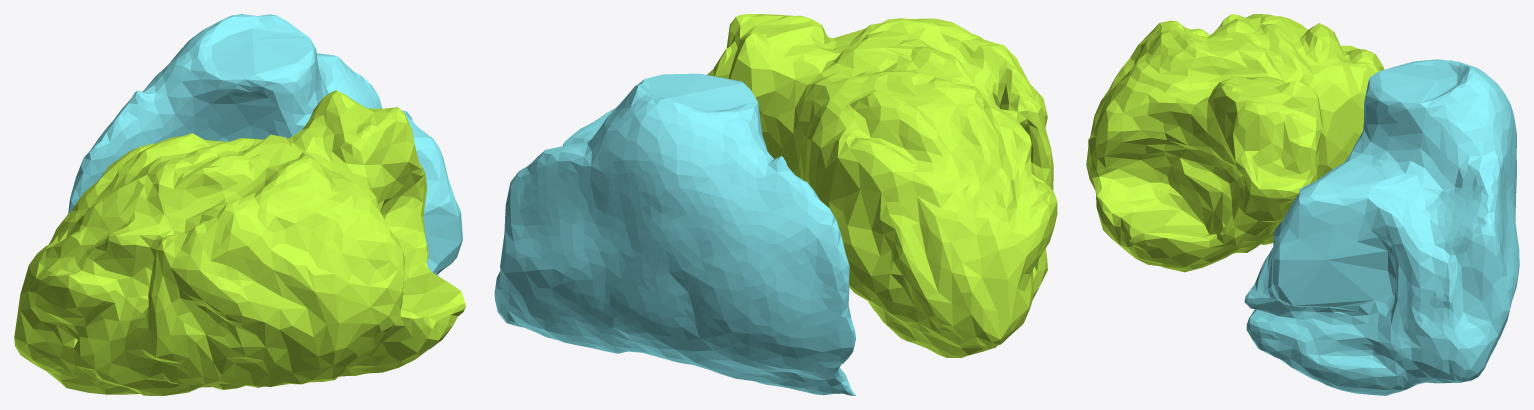
Rendered from ventricles.glb.
3 renders of one model, left to right at view 1: azimuth 30°, elevation 25°; view 2: azimuth 150°, elevation 25°; view 3: azimuth 270°, elevation 25°, orthographic. The views are drawn at different scales.
Parts seen in each view (by area): view 1: LEFT VENTRICLE, RIGHT VENTRICLE; view 2: RIGHT VENTRICLE, LEFT VENTRICLE; view 3: RIGHT VENTRICLE, LEFT VENTRICLE.
Part boxes in pixels (<box>): LEFT VENTRICLE: <box>14,90,465,395</box>; RIGHT VENTRICLE: <box>68,14,462,348</box>; RIGHT VENTRICLE: <box>494,73,855,395</box>; LEFT VENTRICLE: <box>707,14,1057,357</box>; RIGHT VENTRICLE: <box>1244,59,1519,395</box>; LEFT VENTRICLE: <box>1086,14,1384,272</box>.
Size of the model in its own units: 102 by 63.63 by 91.66.
